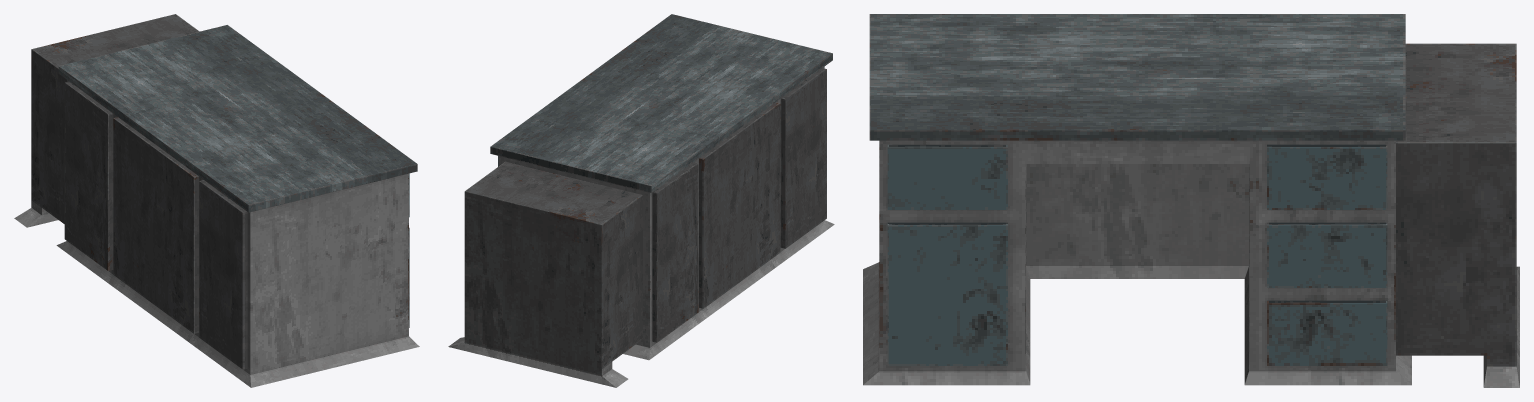
Rendered from desk.glb.
3 renders of one model, left to right at view 1: azimuth 30°, elevation 25°; view 2: azimuth 150°, elevation 25°; view 3: azimuth 270°, elevation 25°, orthographic. The views are drawn at different scales.
Parts seen in each view (by area): view 1: desk-col; view 2: desk-col; view 3: desk-col.
Part boxes in pixels (<box>): desk-col: <box>14,14,419,387</box>; desk-col: <box>448,14,834,387</box>; desk-col: <box>863,14,1519,387</box>.
Bounding box in the file's own units: 2.23 × 2.18 × 5.09.
Materials: 1 (1 with a texture image).
